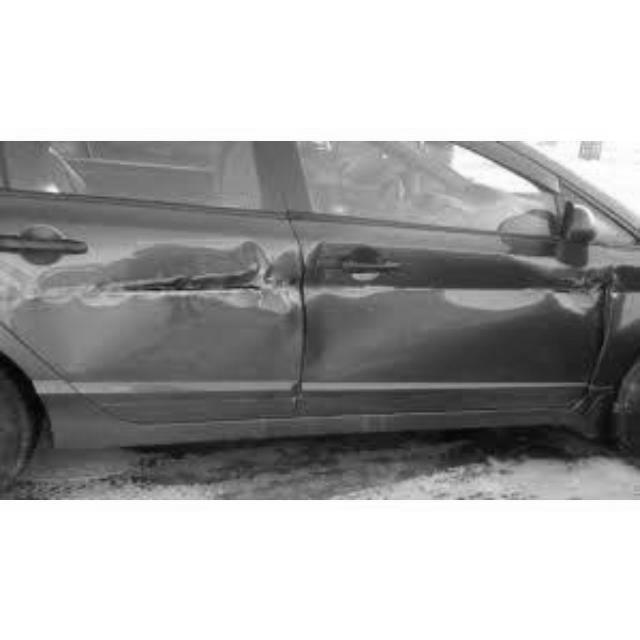doorouter-dent: (3, 228, 306, 364), (313, 249, 614, 347)
